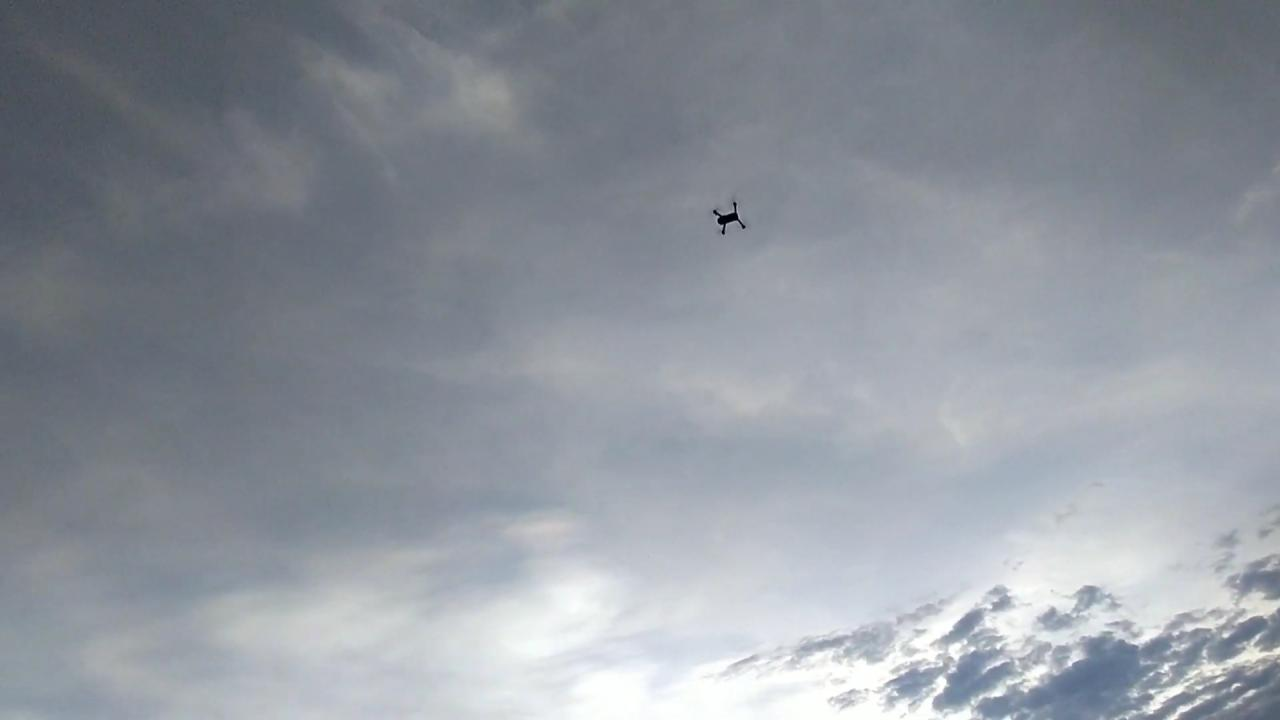Drone: (690, 186, 764, 251)
